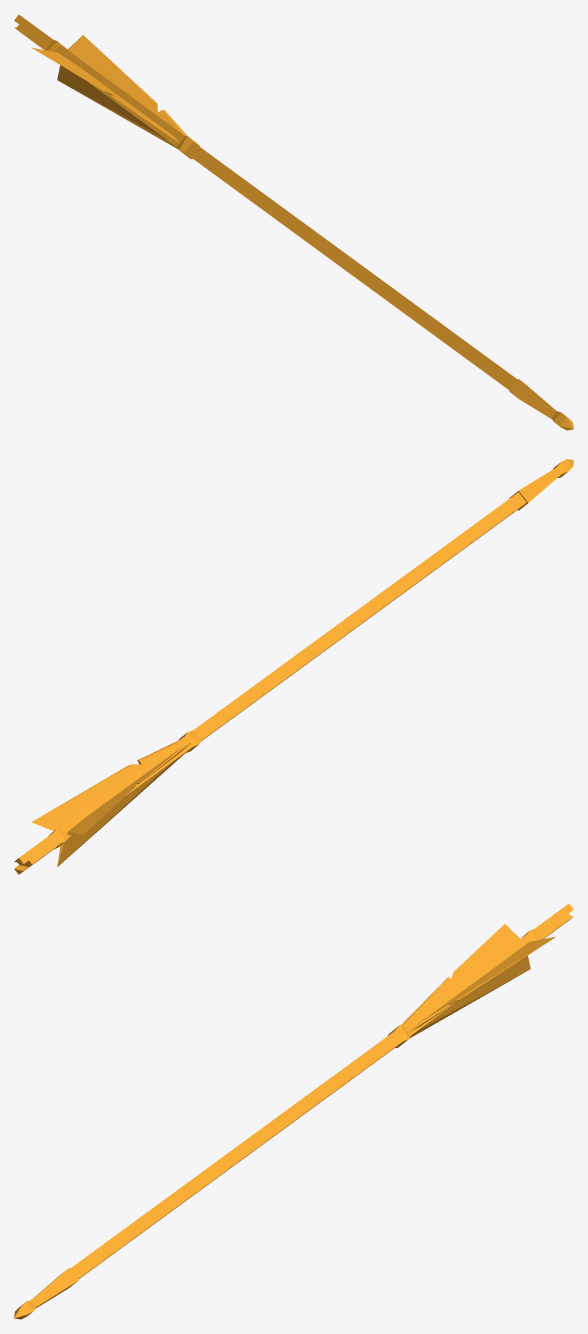
The model's file is SM_Arrow_C_Fantasy.fbx.
3 views of the same model, one above another, from view 1: azimuth 30°, elevation 25°; view 2: azimuth 150°, elevation 25°; view 3: azimuth 330°, elevation 25° (orthographic).
Visible parts, largest first — view 1: arrow-c-fantasy; view 2: arrow-c-fantasy; view 3: arrow-c-fantasy.
Part boxes in pixels (x1,y1,x2,y2): arrow-c-fantasy: (14,14,573,430); arrow-c-fantasy: (14,459,573,874); arrow-c-fantasy: (14,903,573,1319).
Bounding box in the file's own units: 0.054 × 0.0395 × 0.9989.
